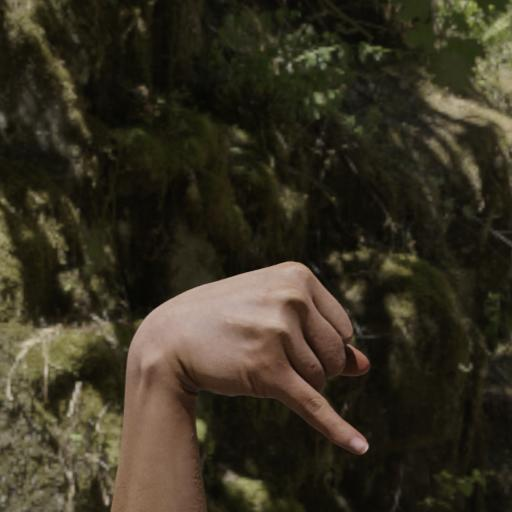J: (97, 233, 394, 512)
